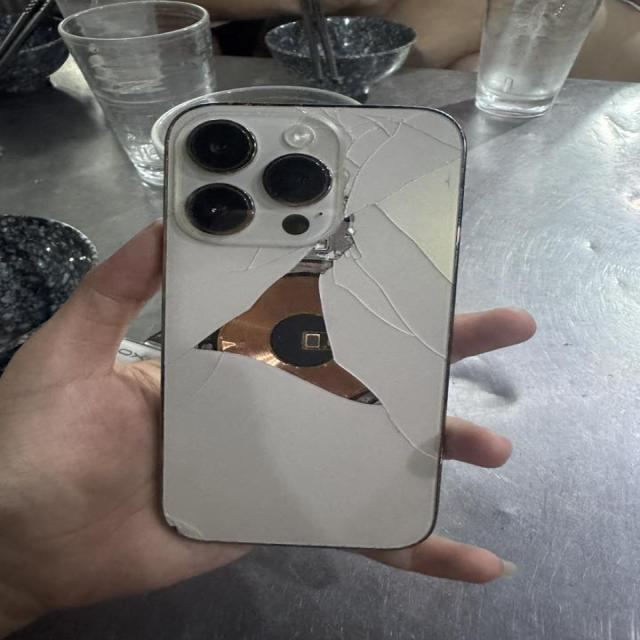gen_14: (150, 97, 466, 553)
